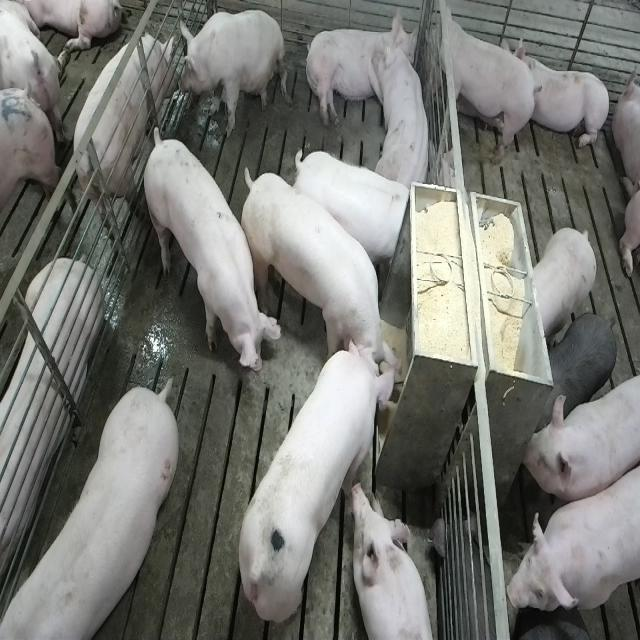Feeding: (236, 336, 400, 625), (234, 158, 400, 384)
Sitting: (177, 8, 285, 139)
Standing: (0, 383, 176, 640), (142, 126, 280, 382), (73, 34, 180, 245), (505, 452, 639, 617), (430, 0, 540, 166), (290, 146, 414, 280), (522, 368, 637, 505), (541, 311, 617, 428), (530, 227, 597, 344), (511, 608, 606, 640)
Sternal_lying: (0, 260, 100, 598), (352, 482, 438, 640), (522, 39, 610, 153)
